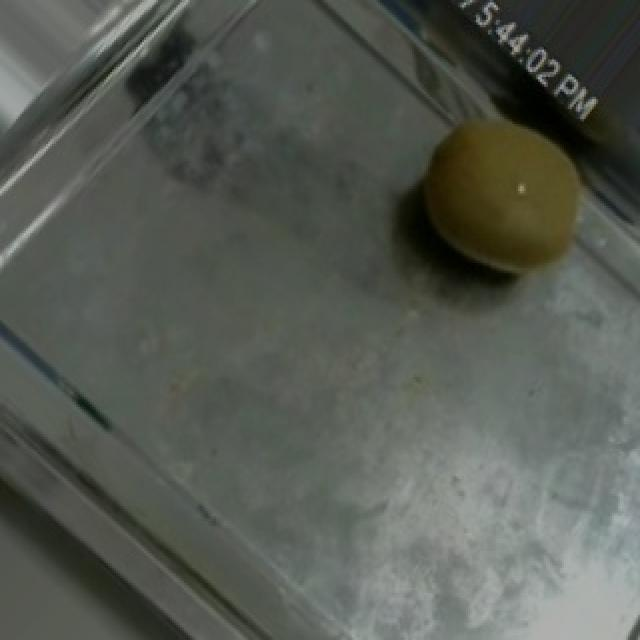Fruit: (376, 74, 630, 315)
